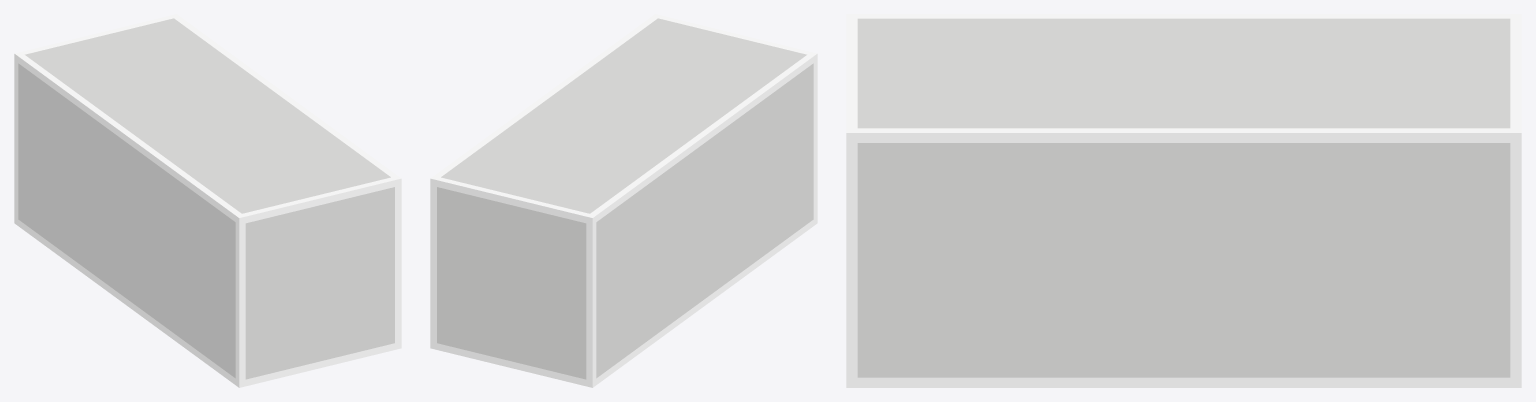
Rendered from cargo.glb.
3 views of the same model, side by side, from view 1: azimuth 30°, elevation 25°; view 2: azimuth 150°, elevation 25°; view 3: azimuth 270°, elevation 25° (orthographic). The views are drawn at different scales.
Visible parts, largest first — view 1: cargo; view 2: cargo; view 3: cargo.
Part boxes in pixels (left/top/right/bottom): cargo: left=14, top=14, right=401, bottom=387; cargo: left=430, top=14, right=817, bottom=387; cargo: left=846, top=14, right=1521, bottom=387.
Bounding box in the file's own units: 2.5 × 2.5 × 6.
Materials: 1 (1 with a texture image).
